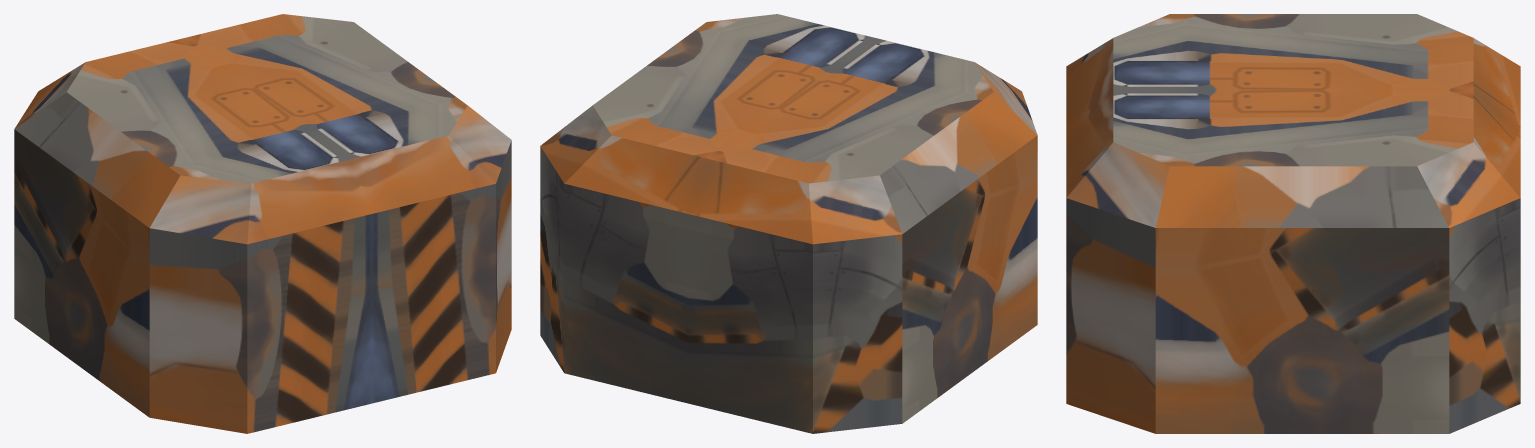
Rendered from base_engine_COLLIDER_1.fbx.
The picture shows the model from 3 angles, left to right: view 1: azimuth 30°, elevation 25°; view 2: azimuth 150°, elevation 25°; view 3: azimuth 270°, elevation 25°; orthographic projection. The views are drawn at different scales.
Visible parts, largest first — view 1: base_engine_COLLIDER_1; view 2: base_engine_COLLIDER_1; view 3: base_engine_COLLIDER_1.
Boxes of the visible parts, x1=… form: base_engine_COLLIDER_1: x1=14, y1=14, x2=511, y2=433; base_engine_COLLIDER_1: x1=540, y1=14, x2=1037, y2=433; base_engine_COLLIDER_1: x1=1066, y1=14, x2=1520, y2=433.
Bounding box in the file's own units: 322 × 322 × 219.
Materials: 1 (1 with a texture image).
